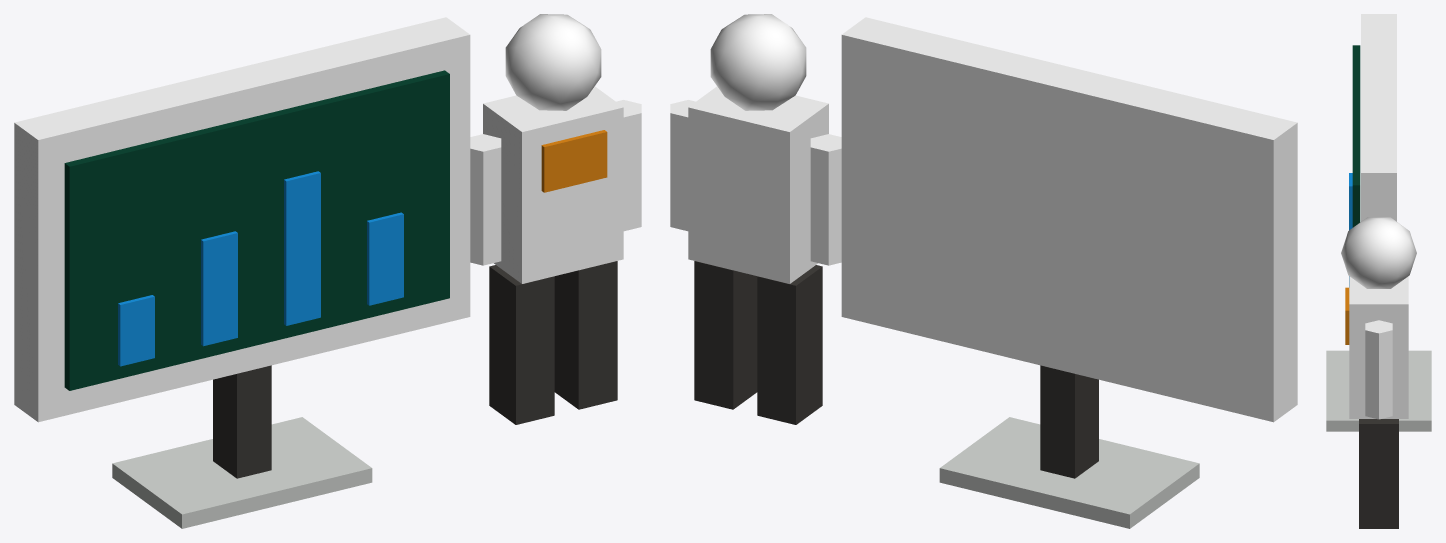
The model's file is D4_managed_detection_and_response.glb.
3 views of the same model, side by side, from view 1: azimuth 30°, elevation 25°; view 2: azimuth 150°, elevation 25°; view 3: azimuth 270°, elevation 25° (orthographic). The views are drawn at different scales.
Visible parts, largest first — view 1: instance_white, instance_darkgreen, instance_ink, instance_blue, instance_stone, instance_amber; view 2: instance_white, instance_ink, instance_stone; view 3: instance_white, instance_ink, instance_stone, instance_darkgreen, instance_amber, instance_blue.
Part boxes in pixels (<box>): instance_white: <box>14,14,641,422</box>; instance_darkgreen: <box>64,70,449,390</box>; instance_ink: <box>213,261,617,478</box>; instance_blue: <box>118,171,403,366</box>; instance_stone: <box>112,417,372,528</box>; instance_amber: <box>541,130,607,192</box>; instance_white: <box>670,14,1297,422</box>; instance_ink: <box>694,261,1098,478</box>; instance_stone: <box>939,417,1199,528</box>; instance_white: <box>1341,14,1416,419</box>; instance_ink: <box>1359,419,1398,528</box>; instance_stone: <box>1326,350,1431,431</box>; instance_darkgreen: <box>1352,45,1360,227</box>; instance_amber: <box>1345,287,1349,344</box>; instance_blue: <box>1349,173,1352,287</box>.
Bounding box in the file's own units: 1.78 × 1.11 × 0.35.
